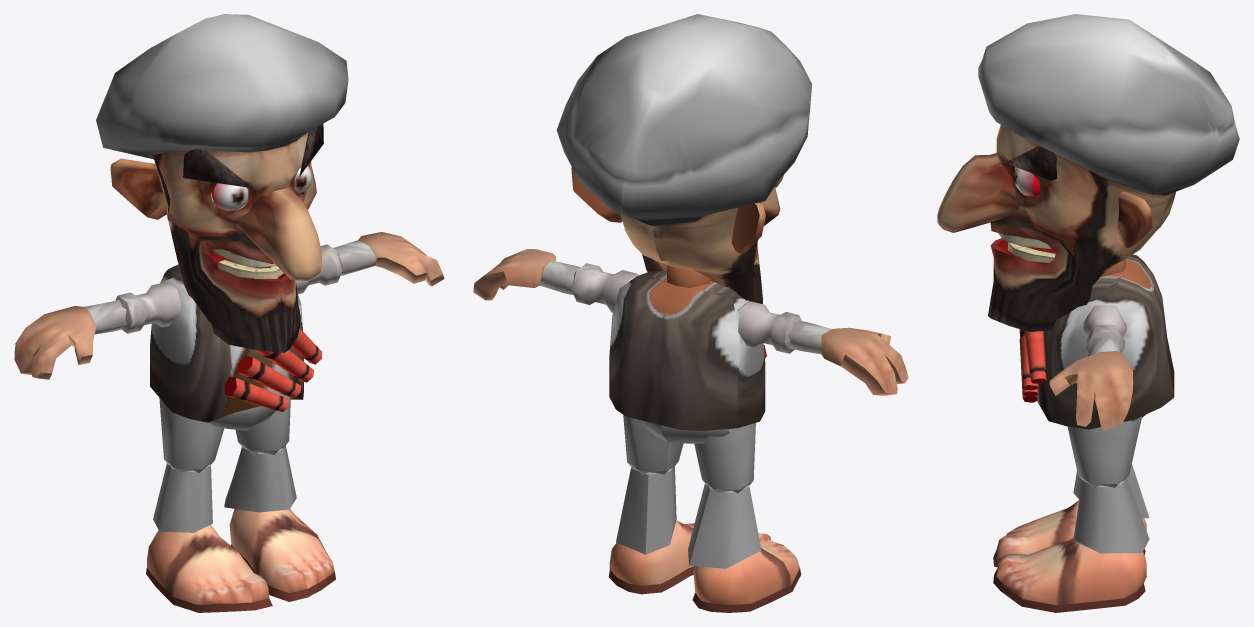
The model's file is Ogama 3.fbx.
3 renders of one model, left to right at view 1: azimuth 30°, elevation 25°; view 2: azimuth 150°, elevation 25°; view 3: azimuth 270°, elevation 25°, orthographic.
Visible parts, largest first — view 1: OgamaHead, OgamaTorso, OgamaRightFoot, OgamaLeftFoot, OgamaRightHand, OgamaLeftLeg2, OgamaLeftHand, OgamaRightLeg2, OgamaRightLeg1, OgamaRightArm1, OgamaLeftLeg1, OgamaLeftArm1 (+1 smaller); view 2: OgamaHead, OgamaTorso, OgamaRightFoot, OgamaRightHand, OgamaRightLeg2, OgamaLeftLeg2, OgamaLeftFoot, OgamaRightLeg1, OgamaLeftHand, OgamaLeftLeg1, OgamaRightArm1, OgamaLeftArm1 (+1 smaller); view 3: OgamaHead, OgamaTorso, OgamaLeftFoot, OgamaLeftHand, OgamaLeftLeg2, OgamaLeftLeg1, OgamaRightFoot, OgamaLeftArm1, OgamaRightLeg2.
Part boxes in pixels (x1,y1,x2,y2): OgamaHead: (96,14,348,352); OgamaTorso: (150,264,322,422); OgamaRightFoot: (146,525,272,612); OgamaLeftFoot: (229,509,335,601); OgamaRightHand: (14,300,127,379); OgamaLeftLeg2: (224,445,296,512); OgamaLeftHand: (333,232,444,286); OgamaRightLeg2: (153,463,212,532); OgamaRightLeg1: (159,398,224,473); OgamaRightArm1: (115,282,182,333); OgamaLeftLeg1: (235,399,290,455); OgamaLeftArm1: (295,244,342,294); OgamaHead: (556,14,812,303); OgamaTorso: (609,265,766,430); OgamaRightFoot: (692,533,801,612); OgamaRightHand: (788,321,908,395); OgamaRightLeg2: (688,484,761,568); OgamaLeftLeg2: (616,466,676,554); OgamaLeftFoot: (608,520,695,594); OgamaRightLeg1: (694,423,755,493); OgamaLeftHand: (473,249,580,300); OgamaLeftLeg1: (623,415,683,474); OgamaRightArm1: (737,301,801,353); OgamaLeftArm1: (571,263,638,312); OgamaHead: (937,14,1239,331); OgamaTorso: (1019,254,1174,429); OgamaLeftFoot: (993,538,1146,612); OgamaLeftHand: (1049,334,1133,430); OgamaLeftLeg2: (1073,478,1149,553); OgamaLeftLeg1: (1067,416,1142,488); OgamaRightFoot: (993,500,1146,567); OgamaLeftArm1: (1083,305,1126,352); OgamaRightLeg2: (1073,464,1149,518).
Size of the model in its own units: 178 by 224 by 113.
Materials: 1 (1 with a texture image).
